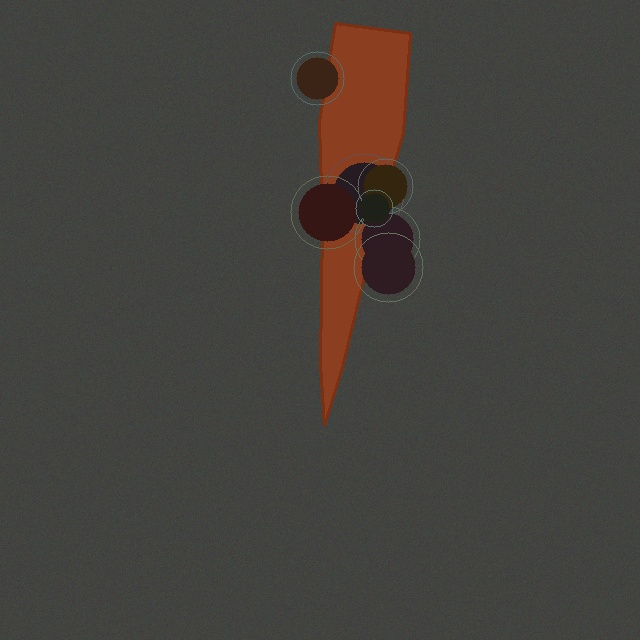Rotten_Carrot: (311, 15, 418, 433)
